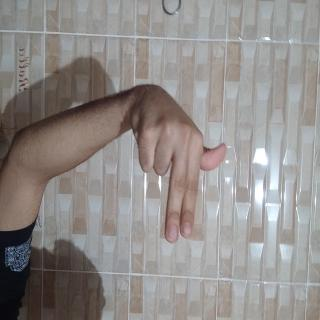GHAYN: (60, 119, 187, 266)
